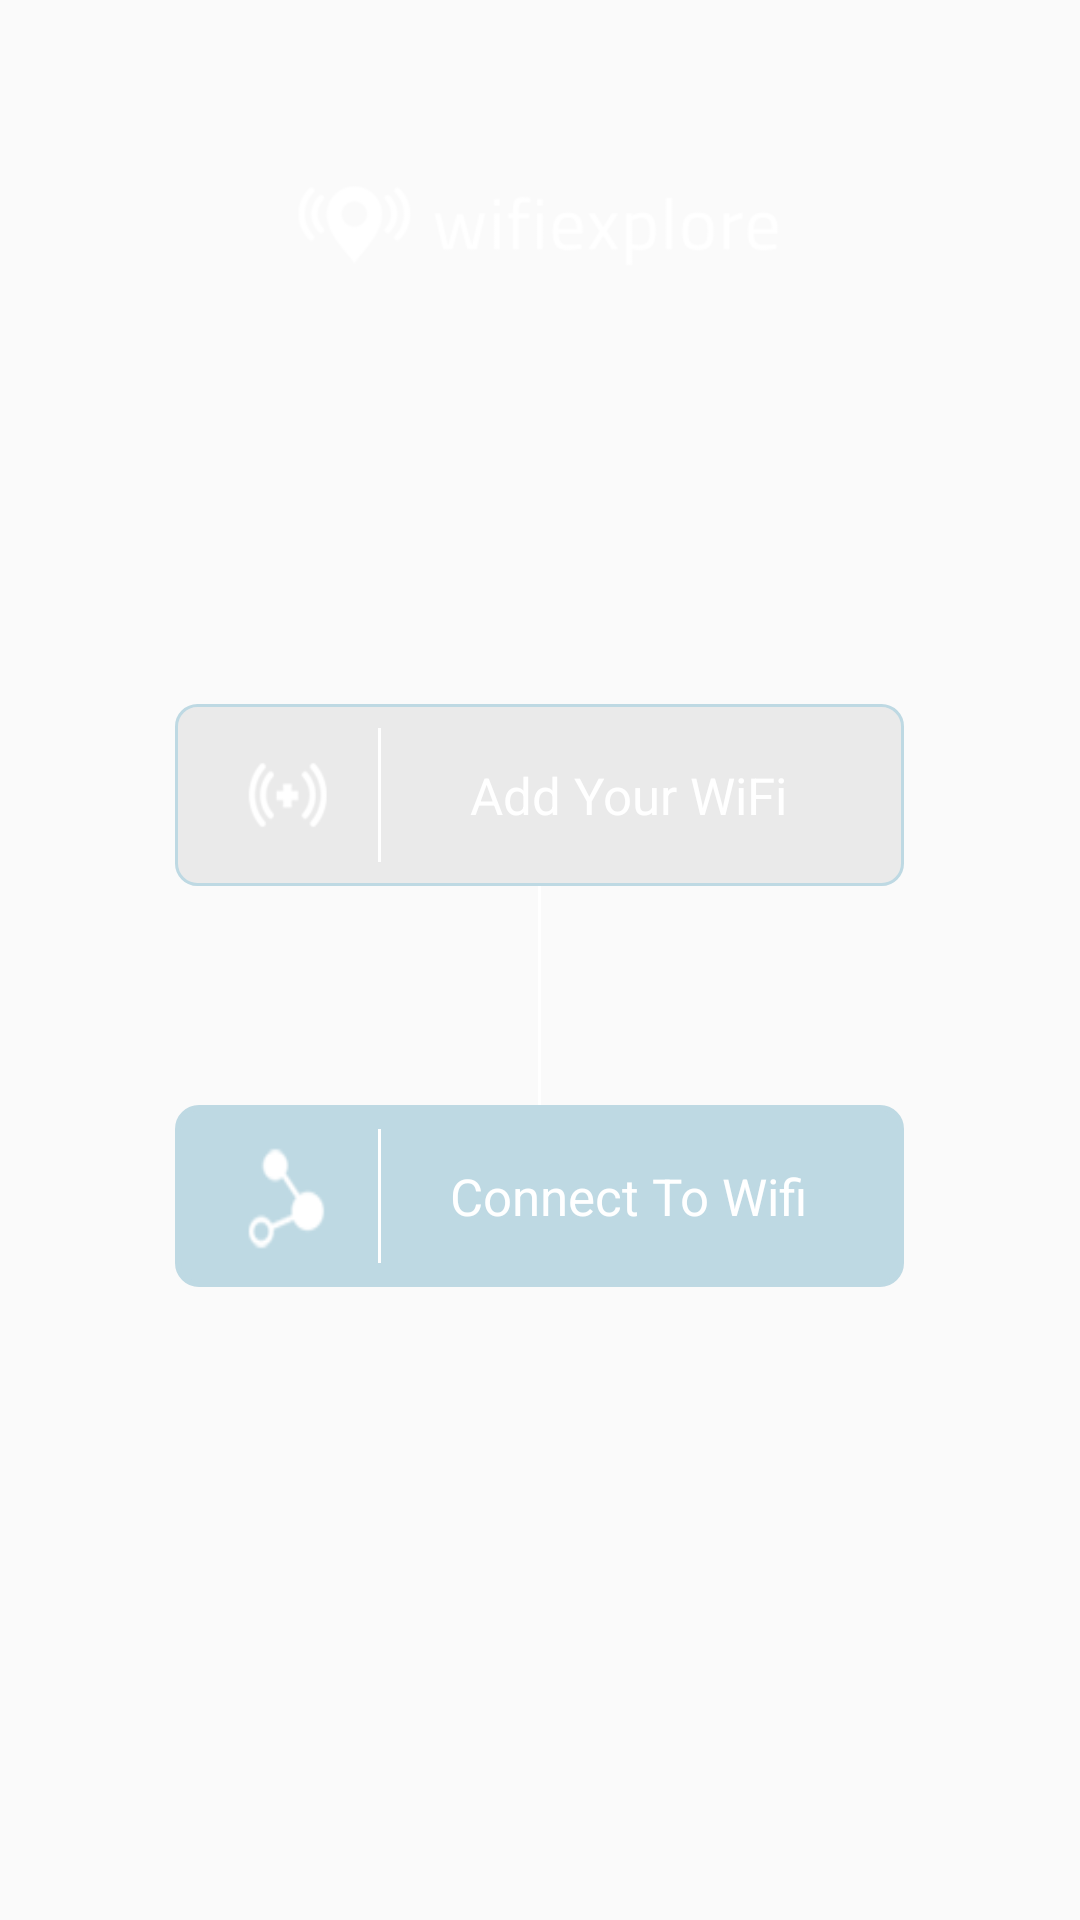

Point at icon controls on the screen. Image size 1080px x 1920px, points as (x,y).
connectwifi: (286,1198)
